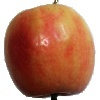apple: (4, 4, 95, 96)
